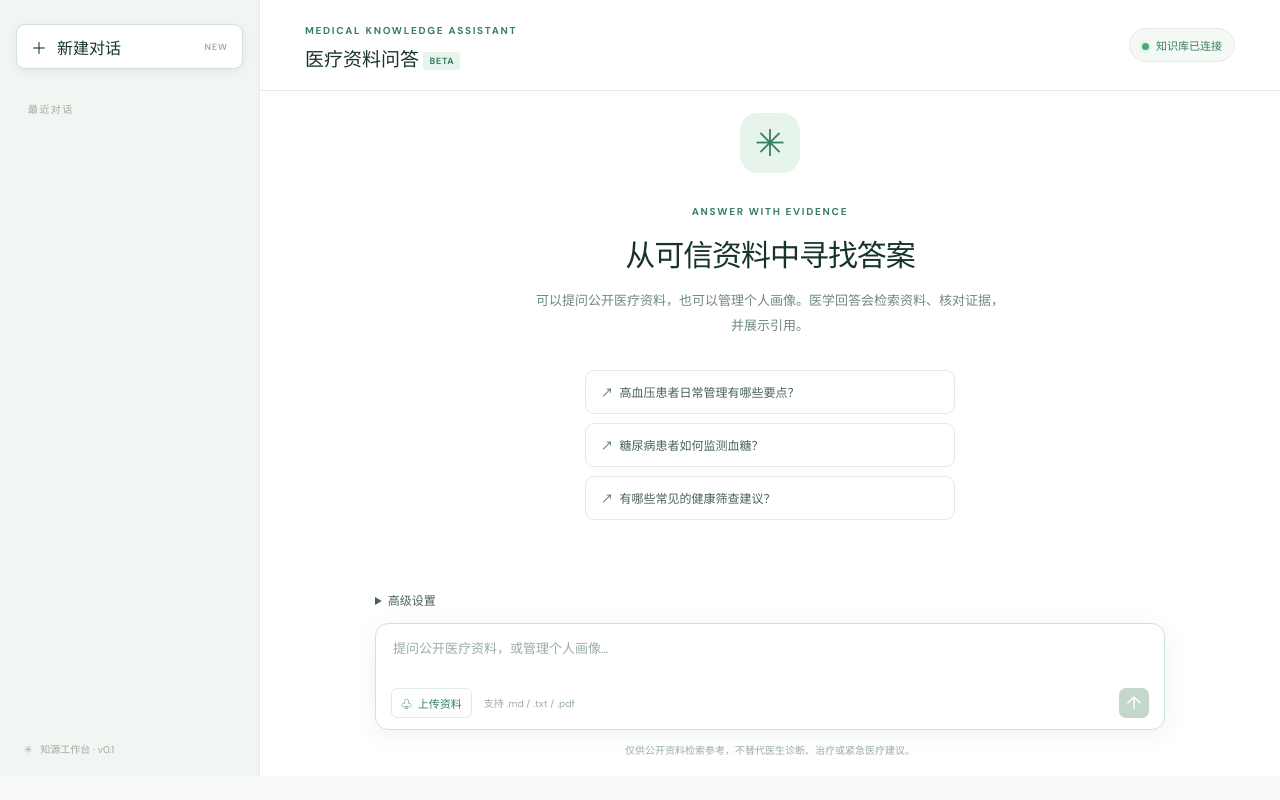
Test case: polls pending memory and only reports saved after the server confirms
In the text box named "输入医疗资料问题": (770, 660) [391,637,1149,683], type "随访问题"
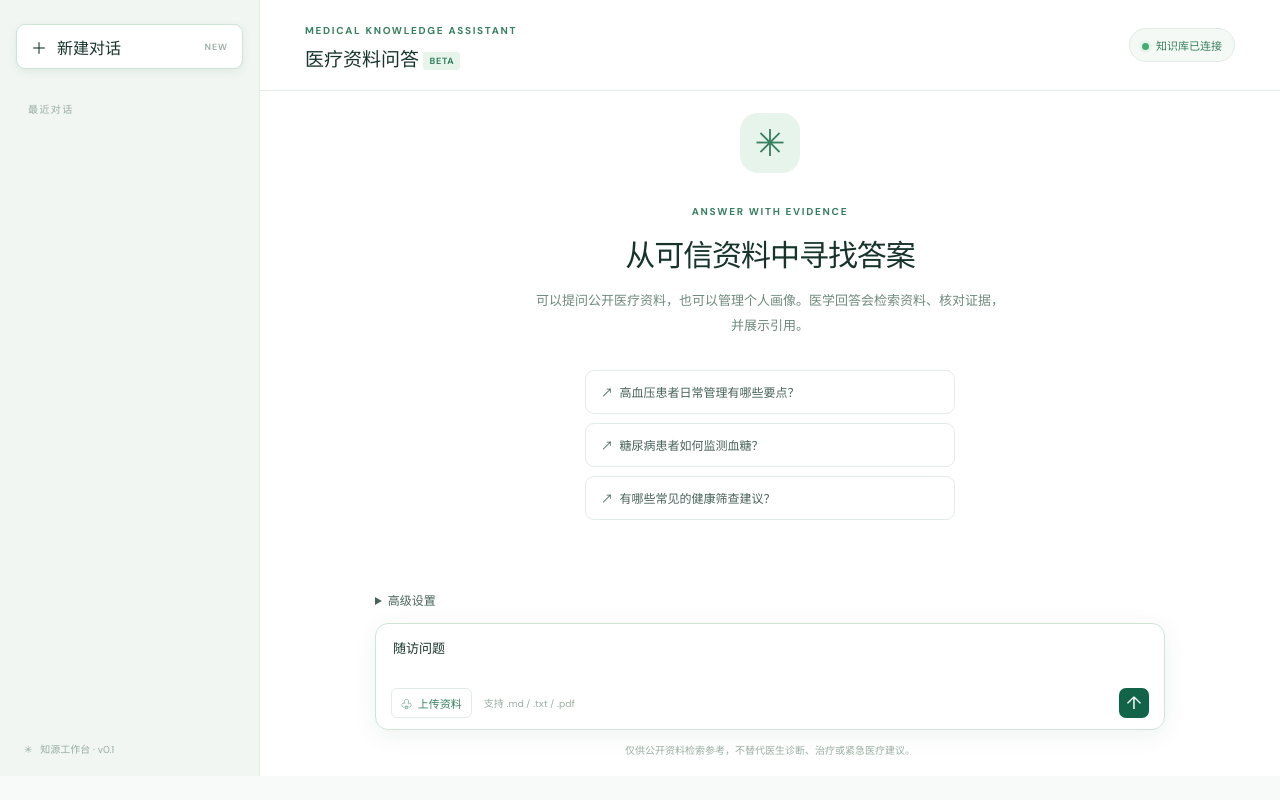
Click the button named "发送问题": click(1134, 703) [1119,688,1149,718]
Wait 6000 ms
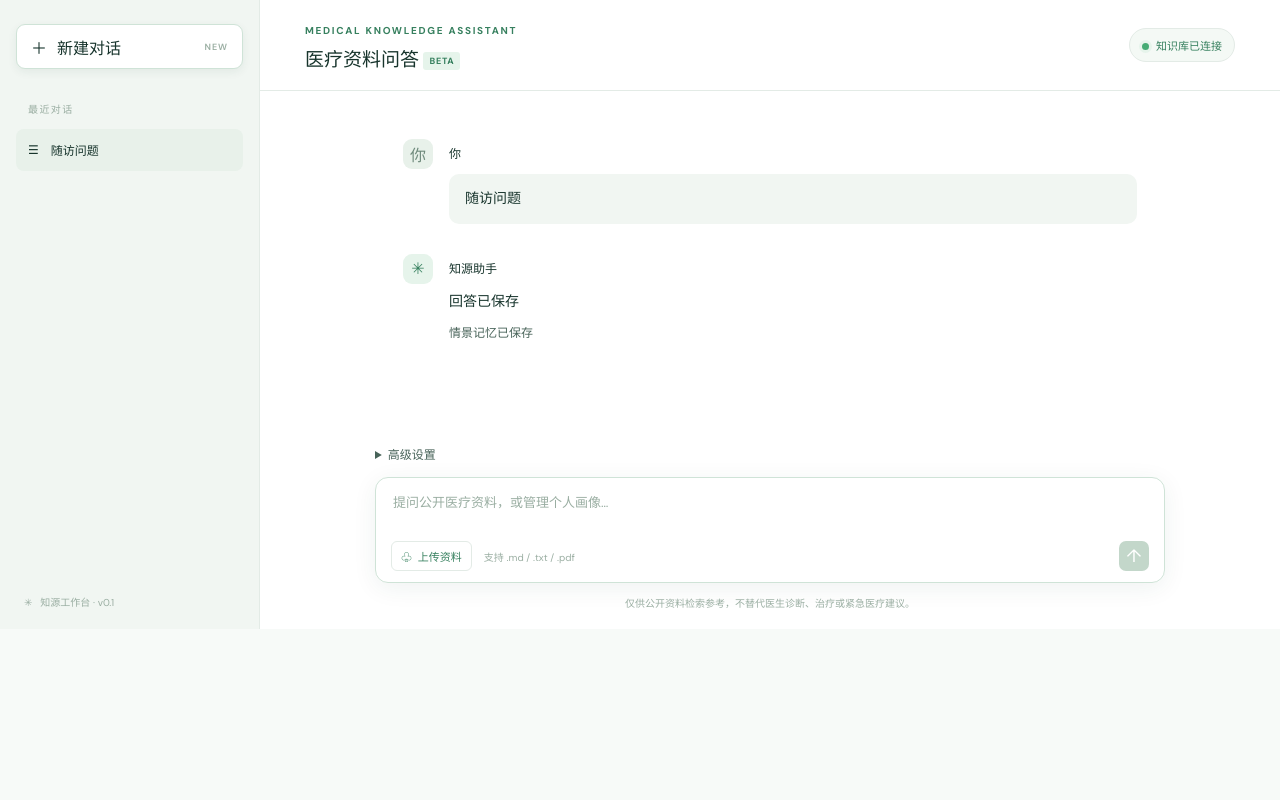
Check: the text "回答已保存" is shown, box [449,292,519,310]
Check: the text "情景记忆已保存" is shown, box [449,325,533,341]
